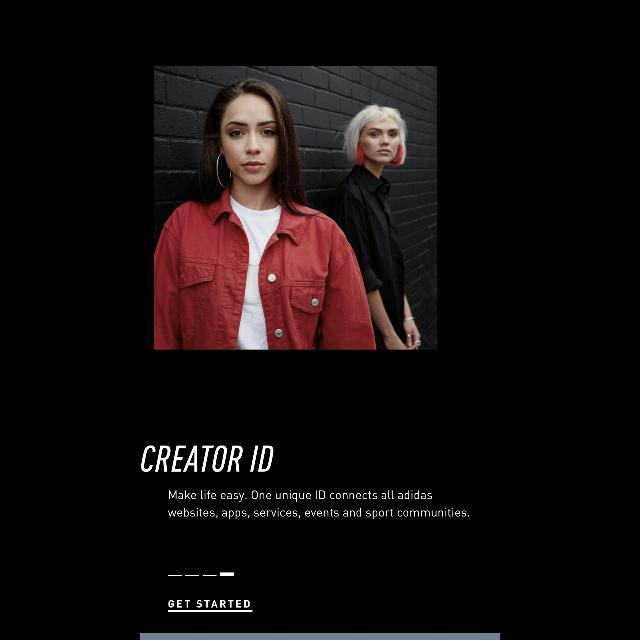image: (154, 66, 438, 350)
pageindicator: (168, 572, 234, 576)
text: (168, 490, 470, 520), (140, 446, 274, 472), (168, 600, 252, 612)
